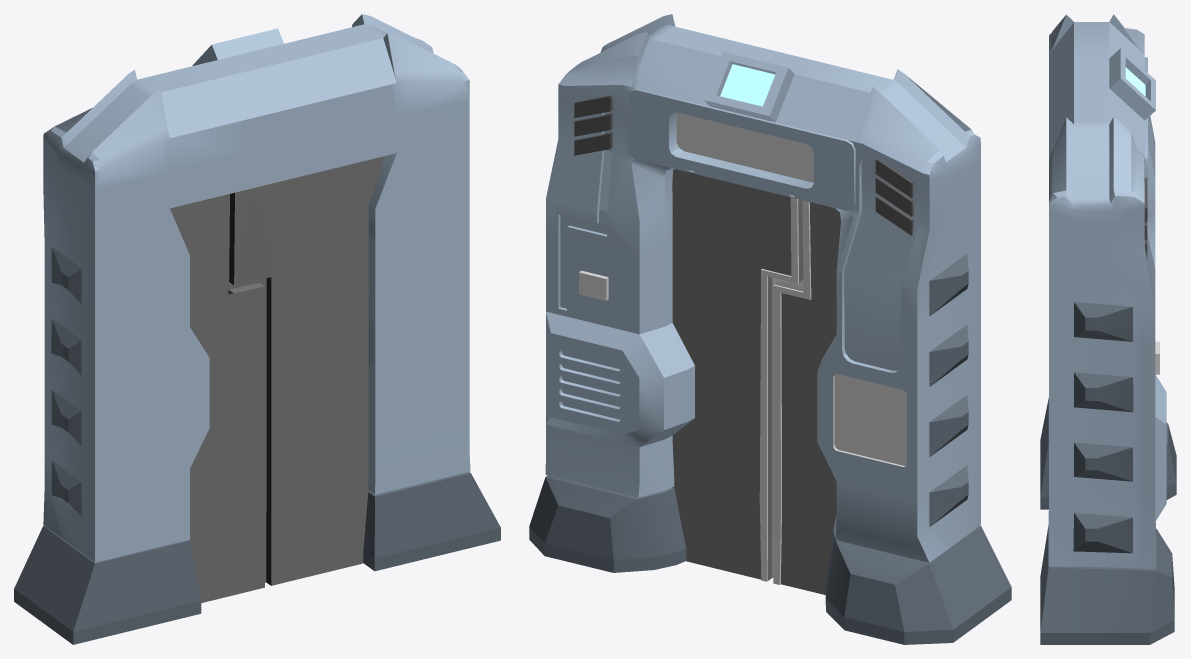
The model's file is Door.fbx.
The picture shows the model from 3 angles, left to right: view 1: azimuth 30°, elevation 25°; view 2: azimuth 150°, elevation 25°; view 3: azimuth 270°, elevation 25°; orthographic projection. The views are drawn at different scales.
Parts seen in each view (by area): view 1: Door.002; view 2: Door.002; view 3: Door.002.
Part boxes in pixels (bbox=[...]): Door.002: bbox=[14, 14, 500, 644]; Door.002: bbox=[529, 14, 1011, 644]; Door.002: bbox=[1040, 14, 1176, 644].
Bounding box in the file's own units: 662 × 776 × 197.
